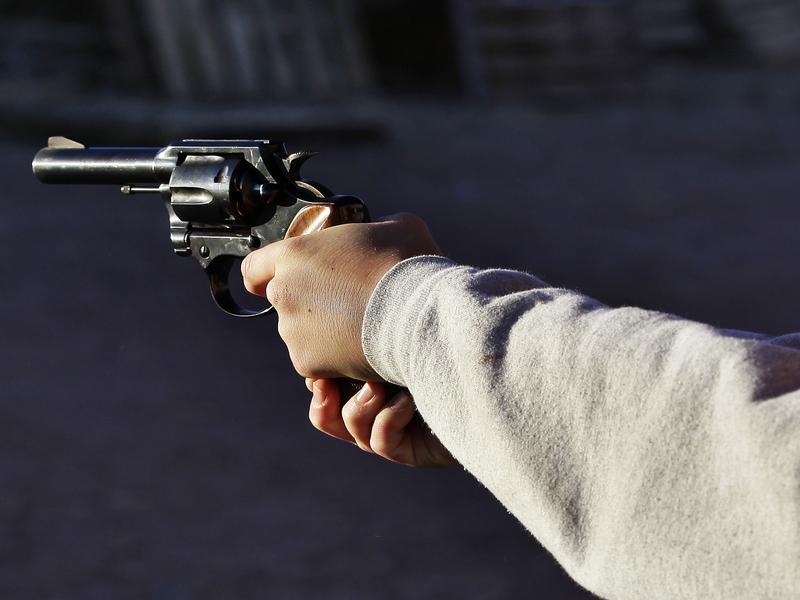Revolver: (28, 109, 377, 326)
